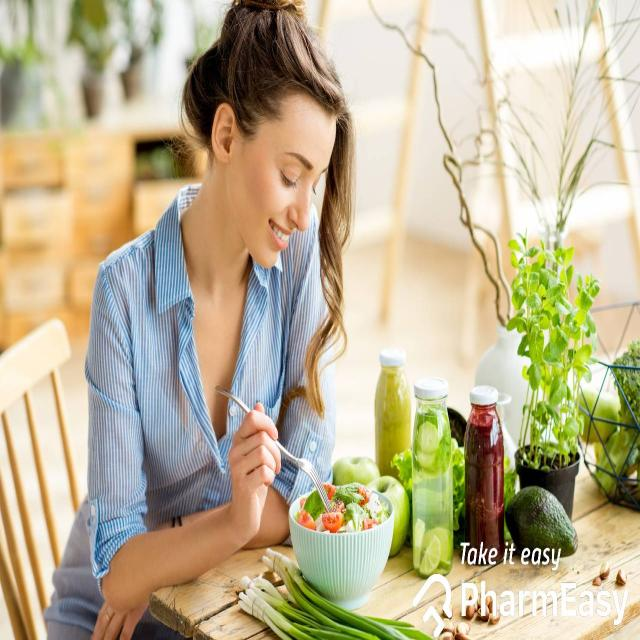eating-person: (41, 0, 406, 625)
